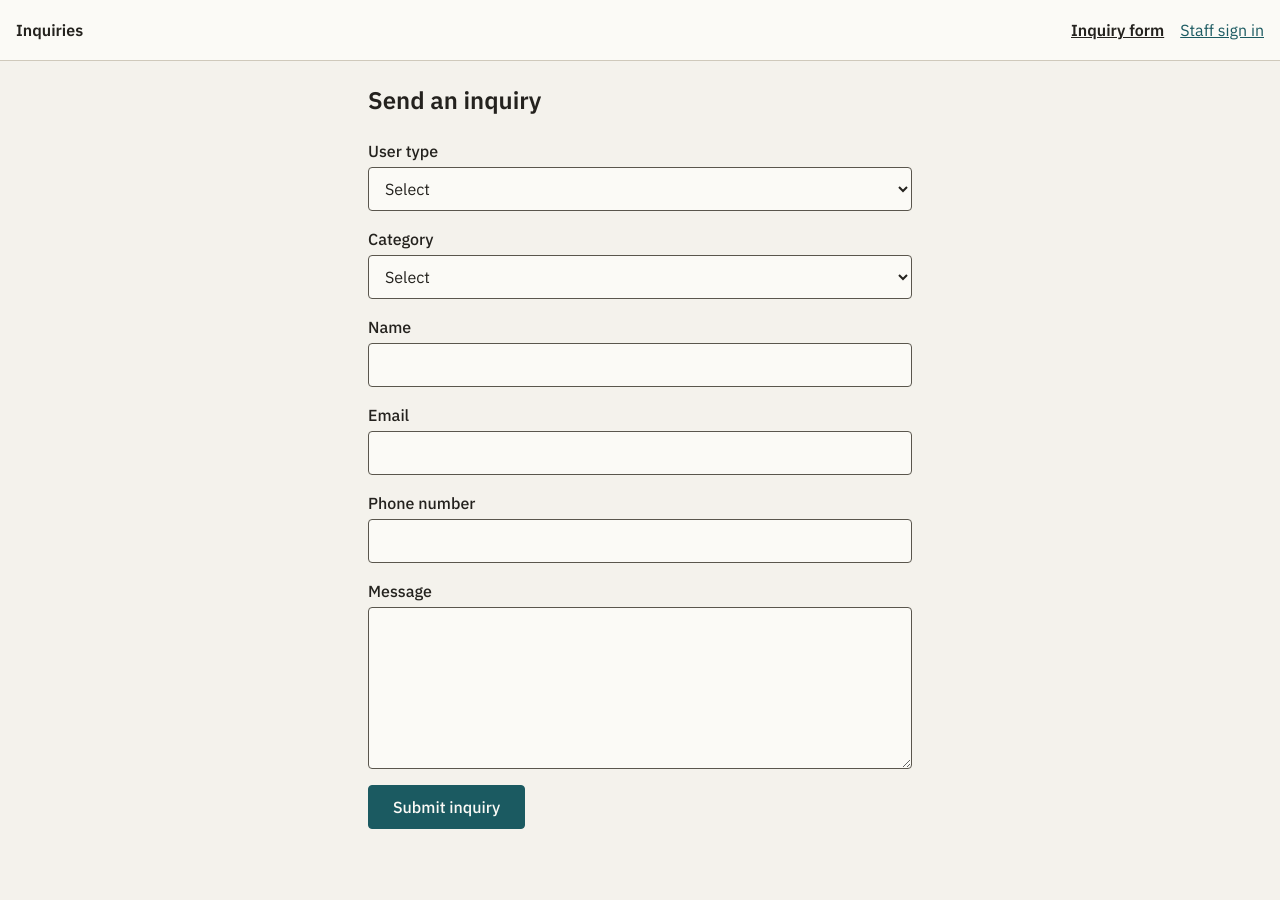
Test case: inquiry form › shows a server error and maps field errors
This screenshot has width=1280, height=900.
Select "Parent" in the dropdown labelled "User type" at coordinates (640, 189), box [368,167,912,211]
Select "Admission" in the dropdown labelled "Category" at coordinates (640, 277), box [368,255,912,299]
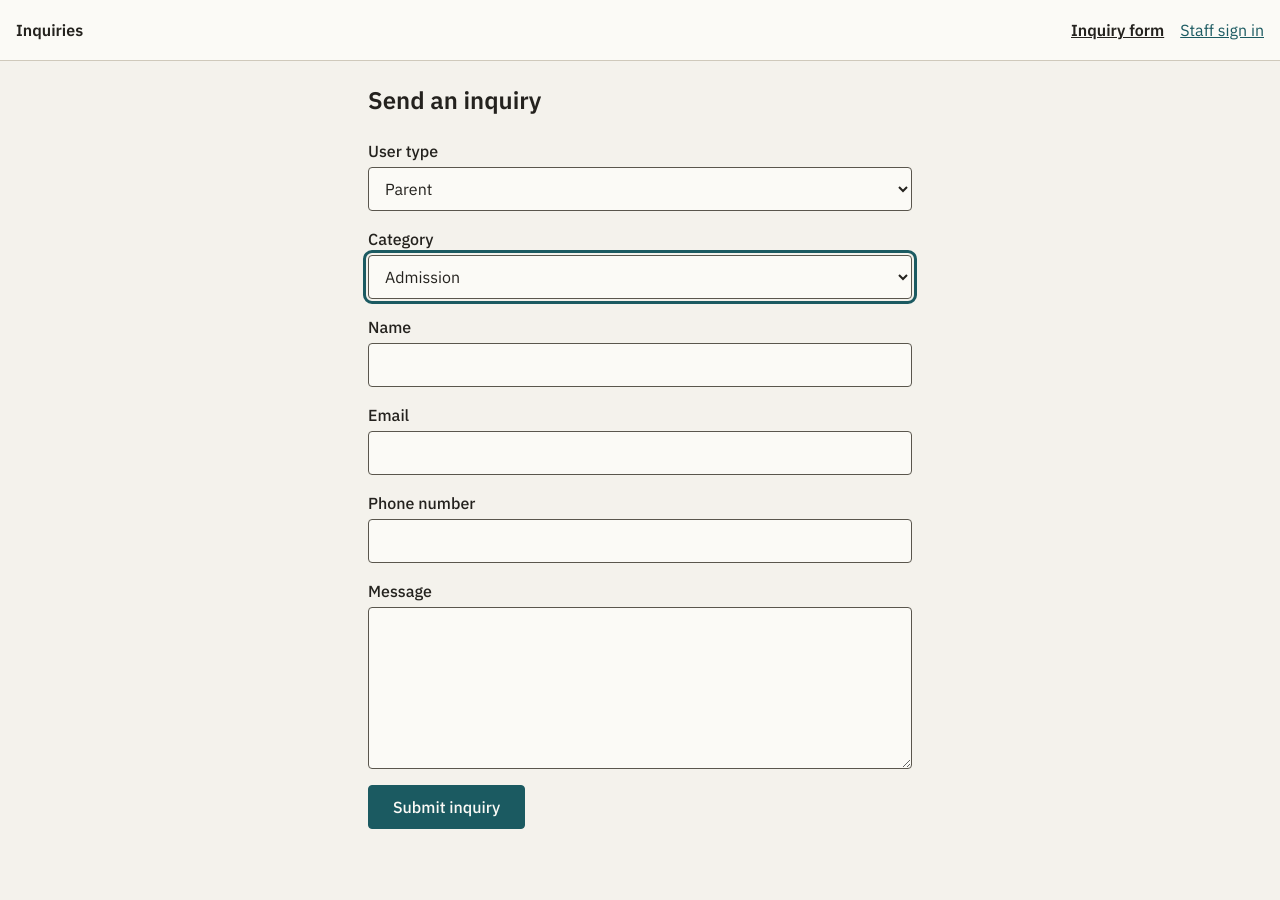
Type "Asha Verma" into the field labelled "Name" at coordinates (640, 365), box [368,343,912,387]
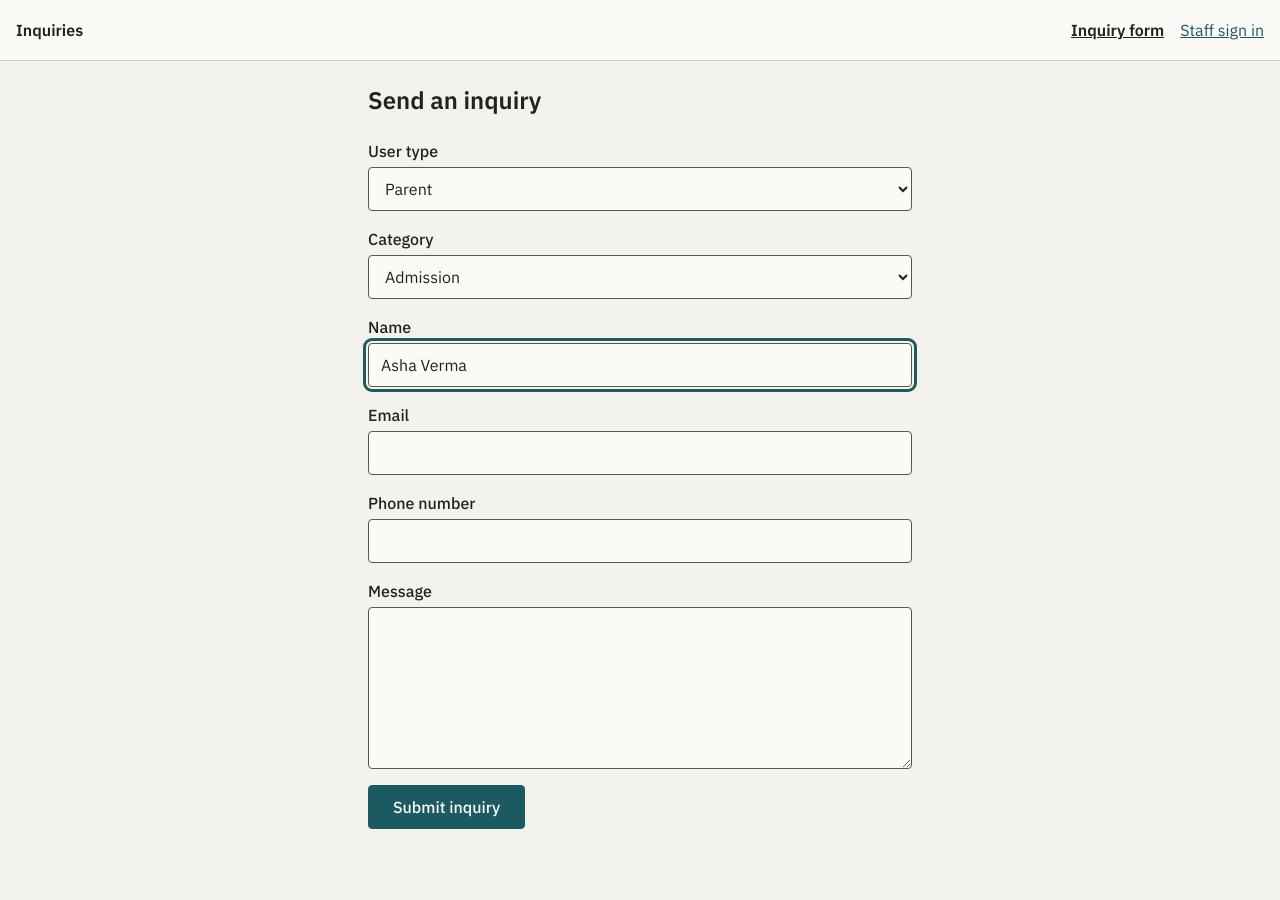
Type "asha@example.com" into the field labelled "Email" at coordinates (640, 453), box [368,431,912,475]
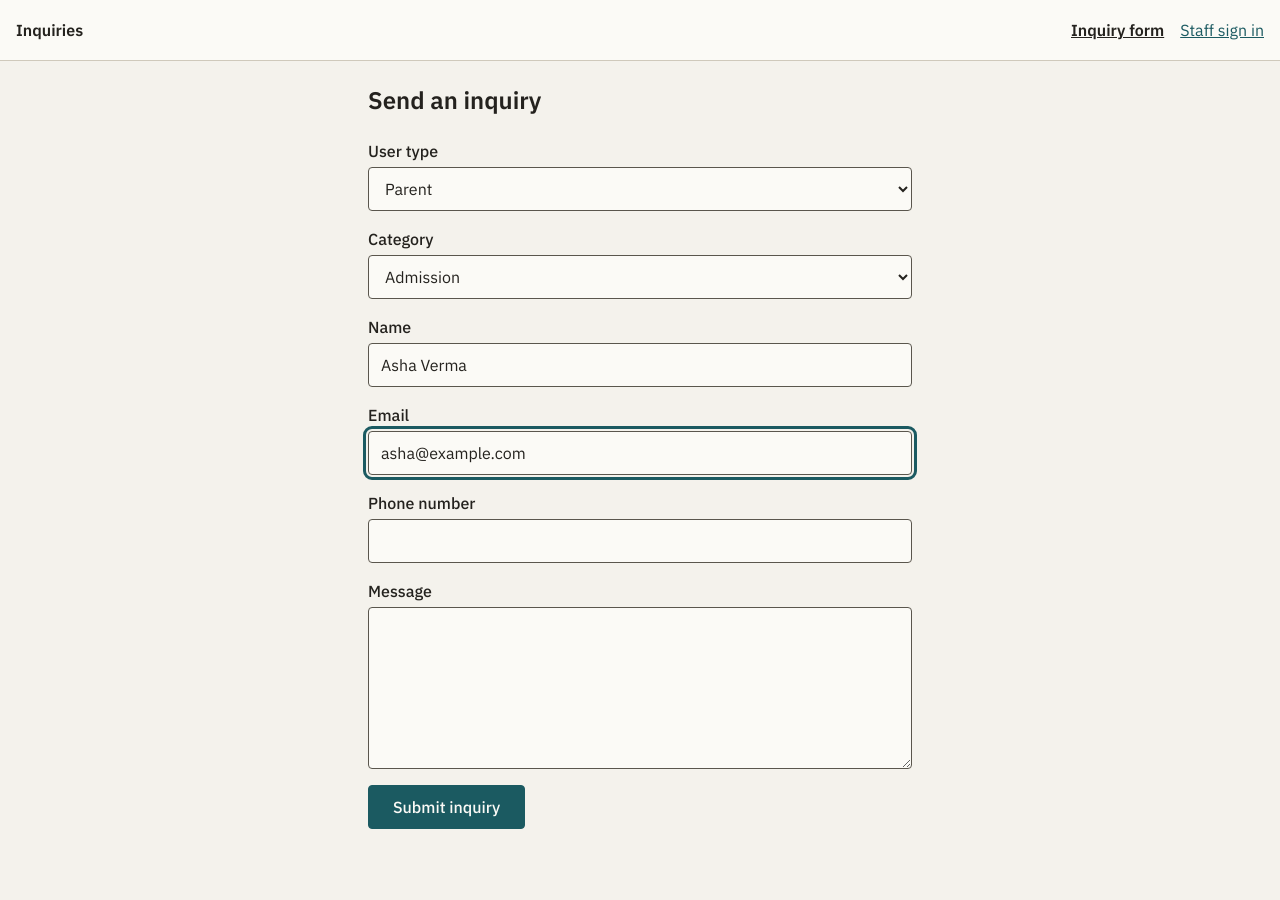
Type "98765 43210" into the field labelled "Phone number" at coordinates (640, 541), box [368,519,912,563]
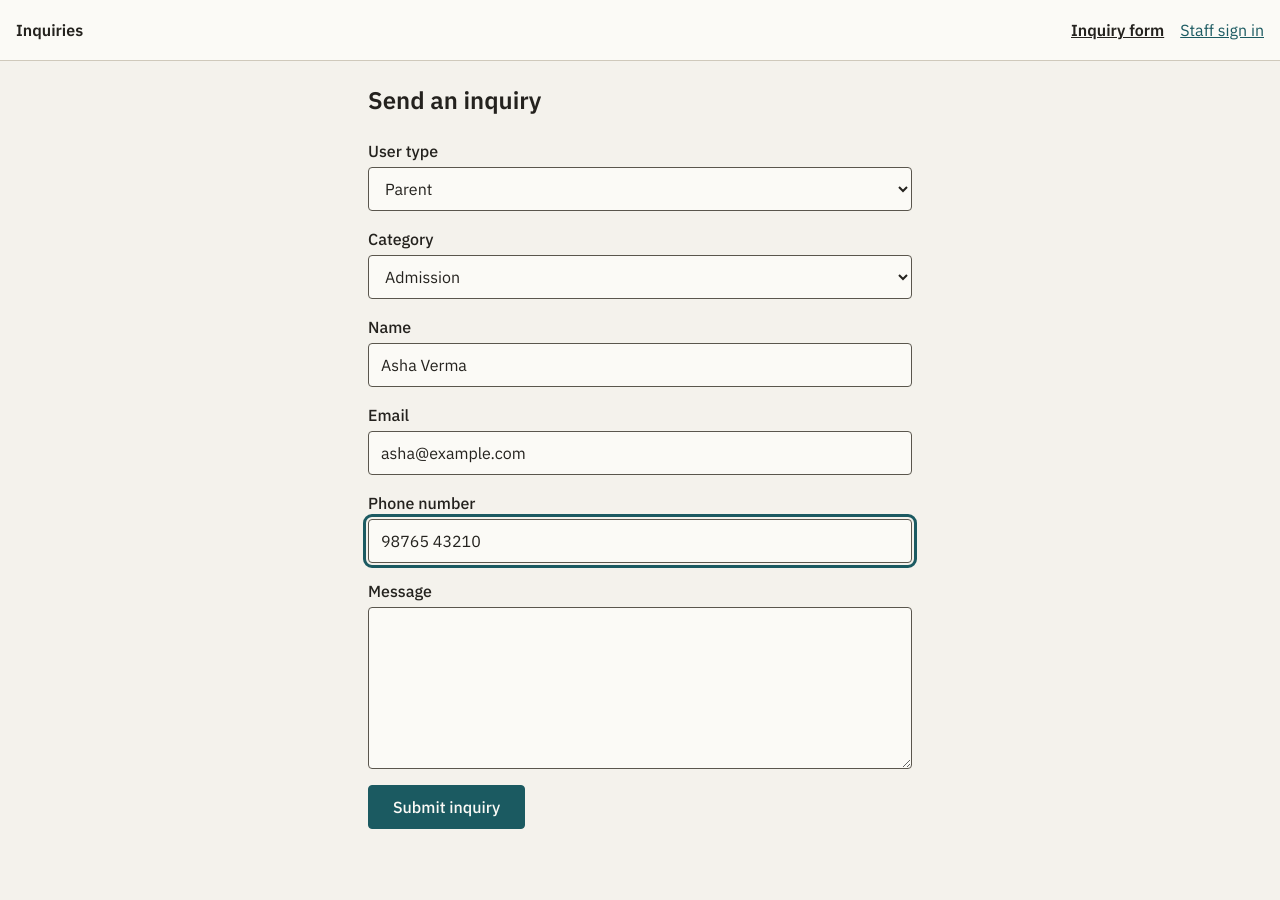
Type "Please share the admission dates." into the text box labelled "Message" at coordinates (640, 688), box [368,607,912,769]
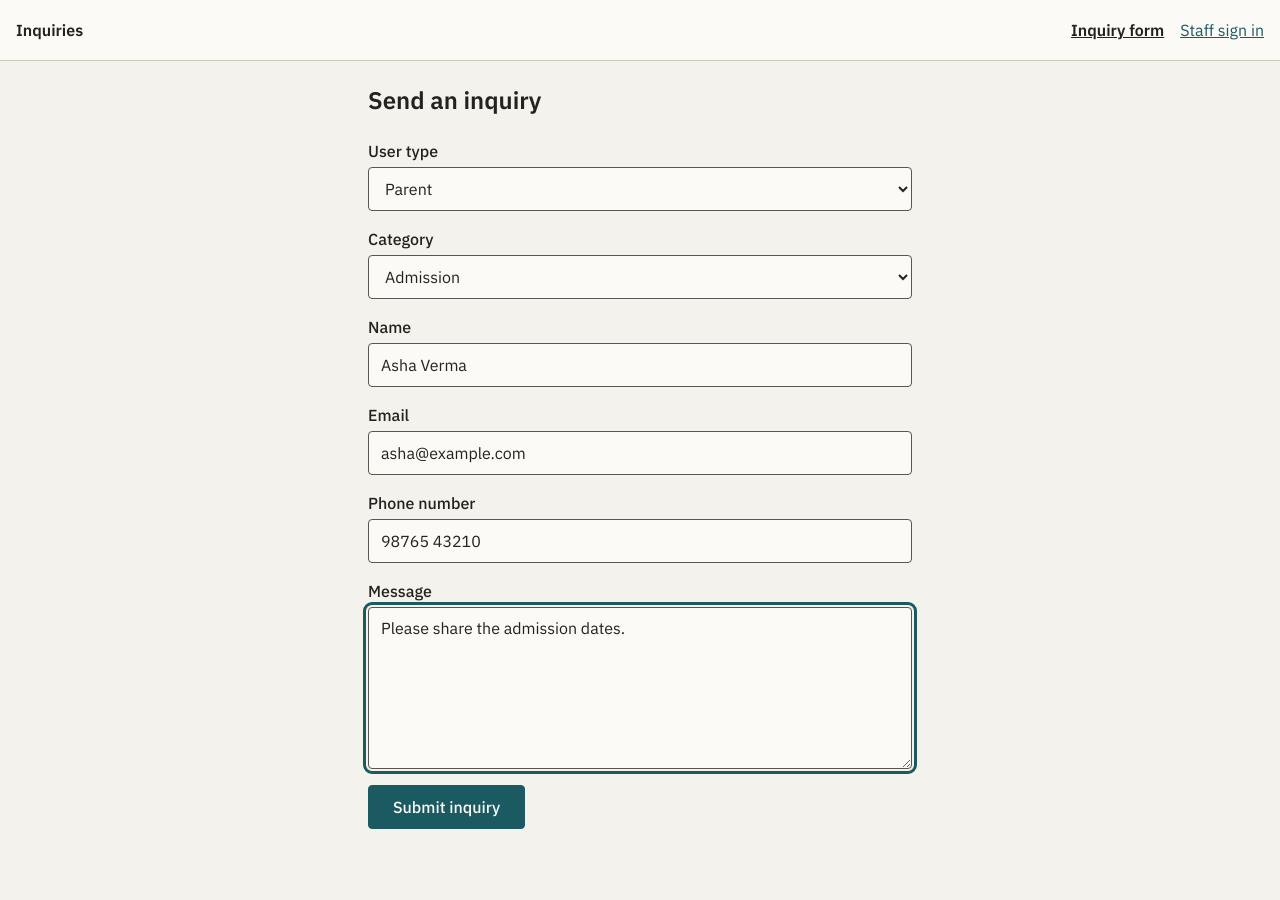
Click the button "Submit inquiry" at coordinates (447, 807), box [368,785,525,829]
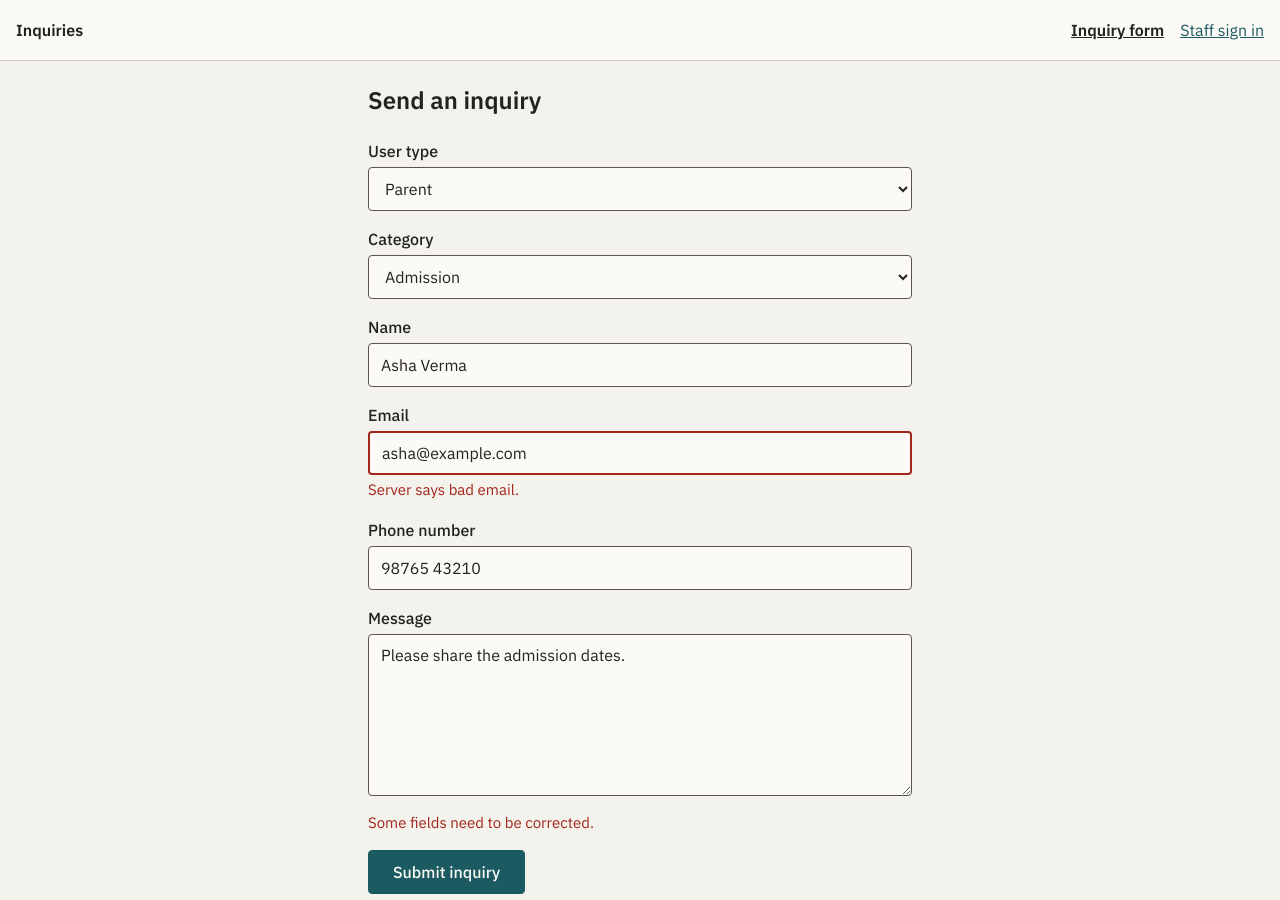
expect the text "Server says bad email." is shown: met, box [368,480,519,499]
expect the message reads "Some fields need to be corrected.": met, box [368,812,594,832]
